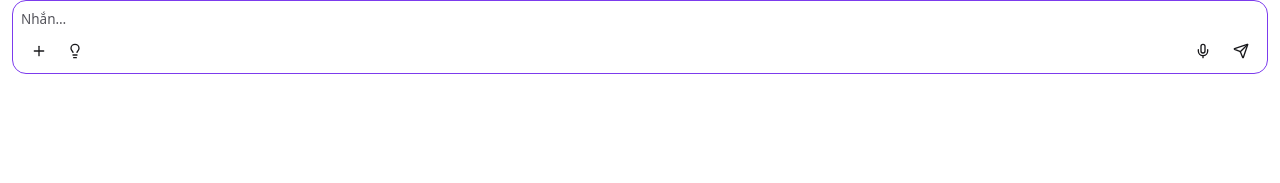
it: Composer slash skills › filters skills by the keyword after the slash
Query by description, not the command text (which collides with the textarea value).
Step 1. Type "/email" into the text box → [640, 19], box [21, 9, 1259, 29]
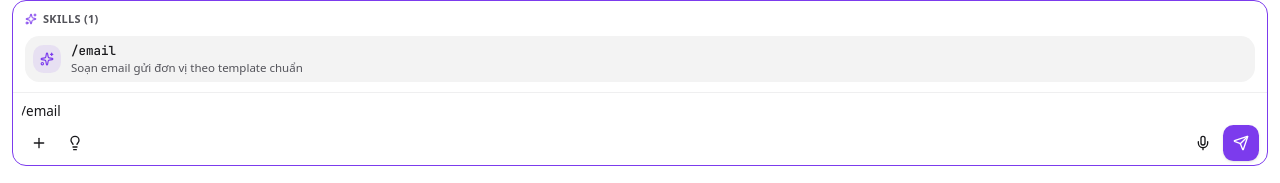
expect the button "/email Soạn email gửi đơn vị theo template chuẩn" is shown: met, box [25, 36, 1255, 82]
